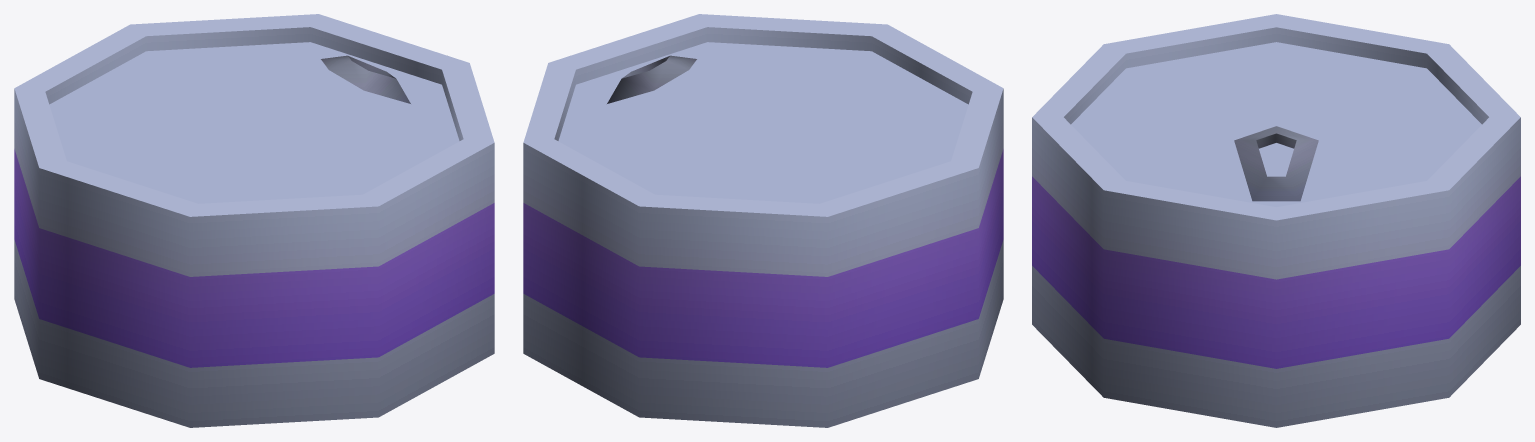
Rendered from can-small.f5e7c2d6e9.glb.
3 views of the same model, side by side, from view 1: azimuth 30°, elevation 25°; view 2: azimuth 150°, elevation 25°; view 3: azimuth 270°, elevation 25° (orthographic).
Visible parts, largest first — view 1: can-small, Group; view 2: can-small, Group; view 3: can-small, Group.
Boxes of the visible parts, x1,y1,x2,y2 form: can-small: (14,14,494,427); Group: (321,55,410,103); can-small: (523,14,1003,427); Group: (607,55,696,103); can-small: (1032,14,1520,427); Group: (1234,126,1318,201).
Size of the model in its own units: 0.3 by 0.1611 by 0.3.
Materials: 1 (1 with a texture image).
